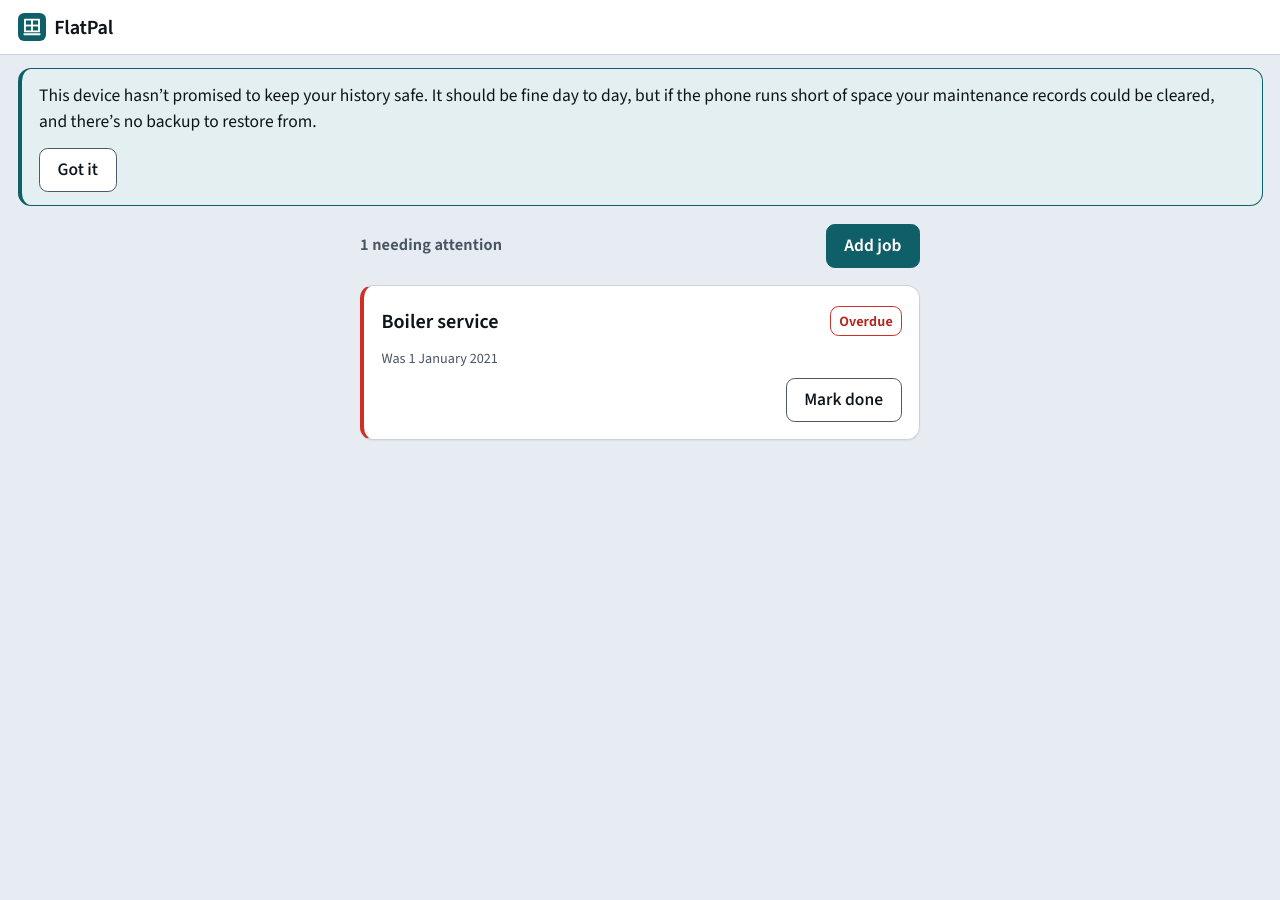
Test: recording a completion on a past date › moves the schedule when the backdated entry is the newest one
Click the button "Boiler service" at coordinates (440, 321), box [382,299,499,343]
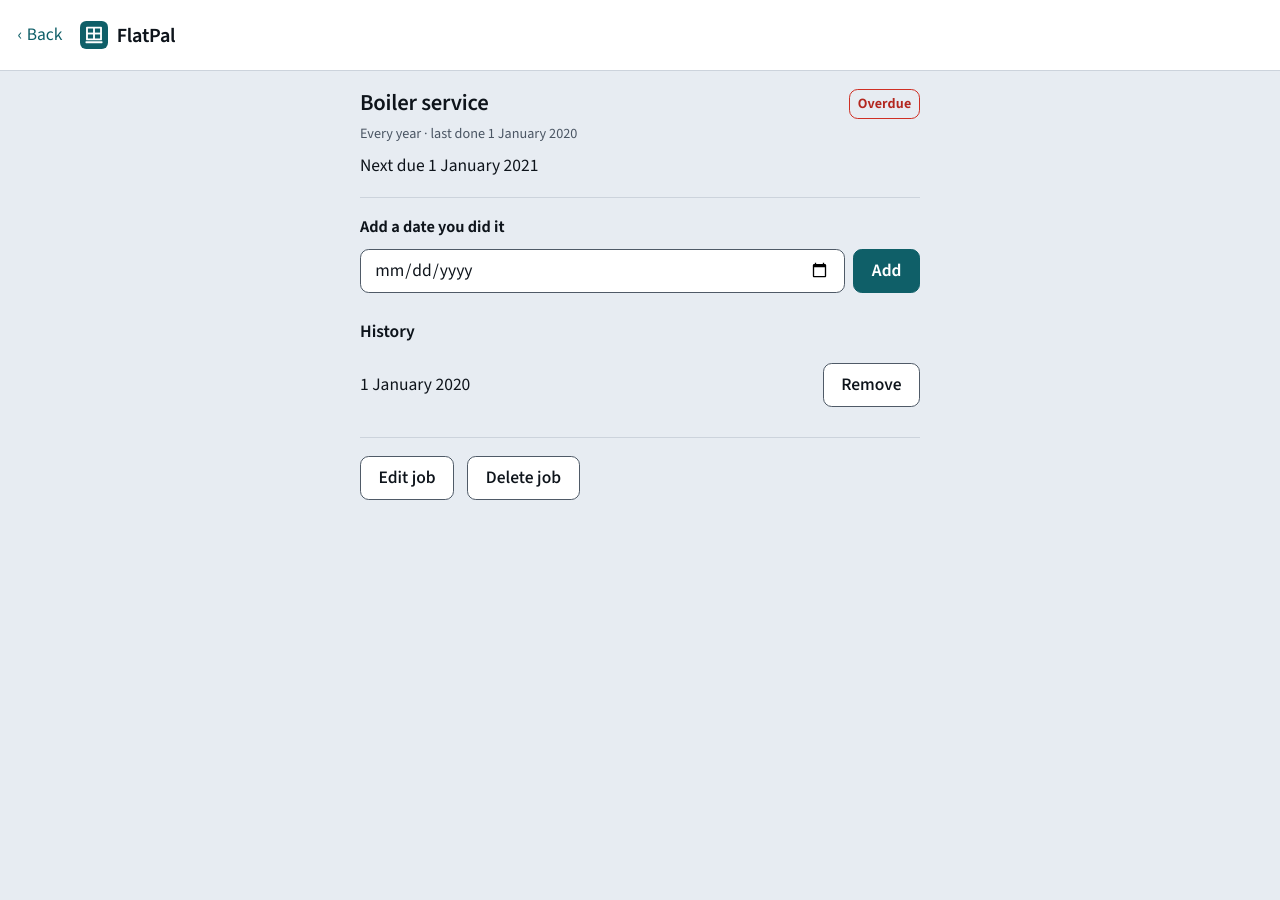
Check: the heading "Boiler service" is shown, box [360,90,488,118]
Type "2026-07-01" into the date field labelled "Add a date you did it" at coordinates (602, 271), box [360,249,845,293]
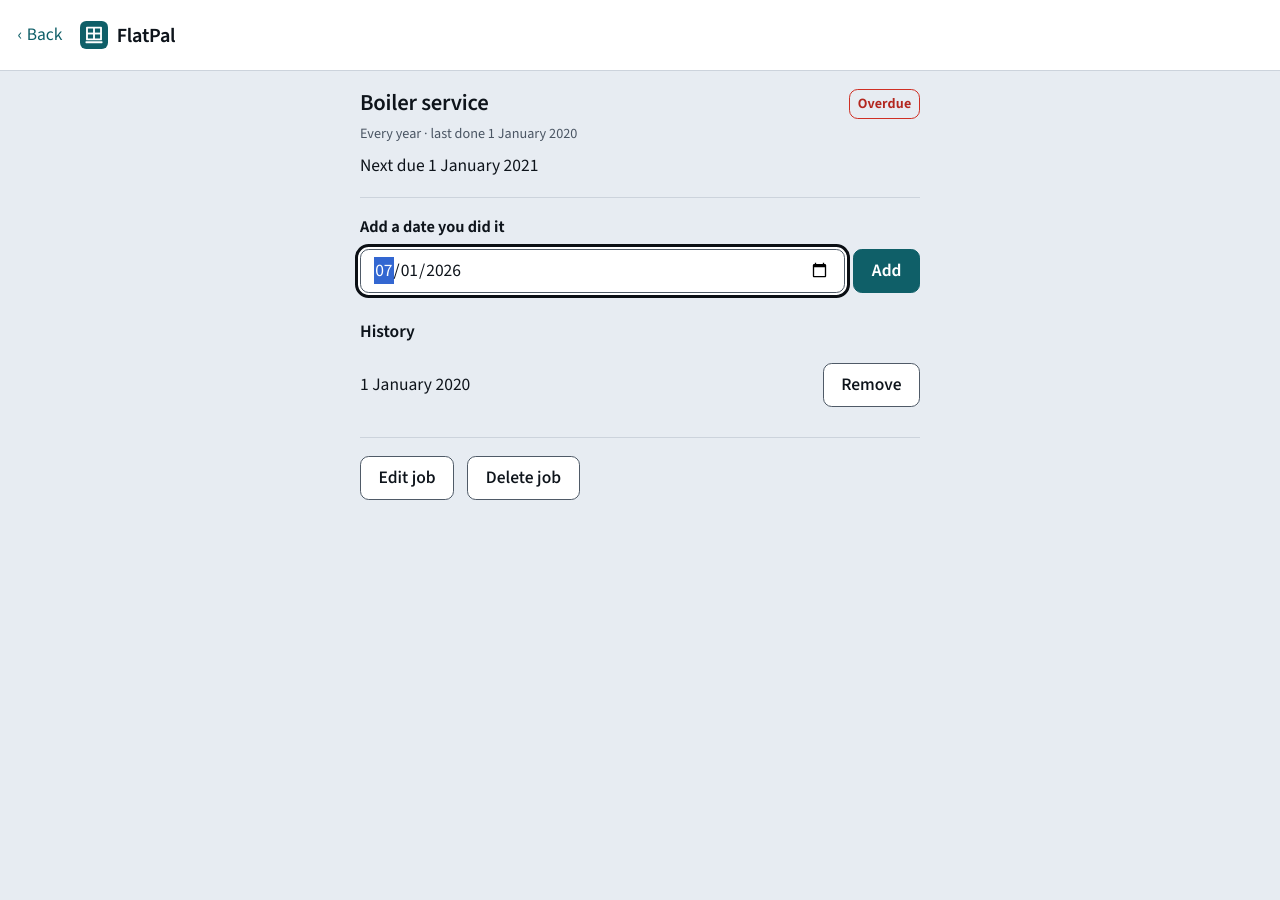
Click the button "Add" at coordinates (887, 271), box [853,249,920,293]
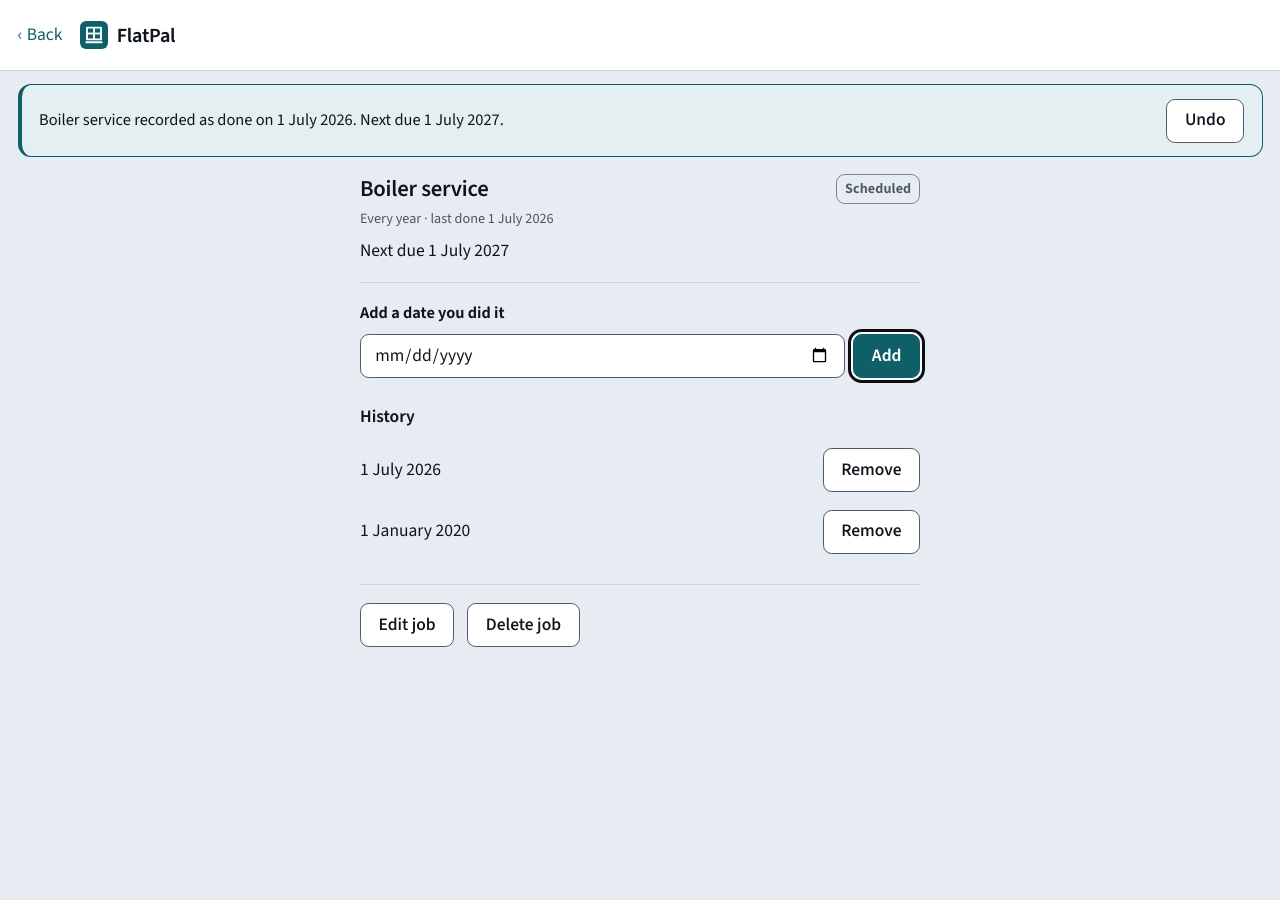
Check: the text "Next due 1 July 2027" is shown, box [360,238,509,264]
